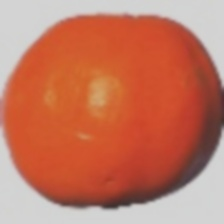tangerine: (33, 56, 212, 200)
